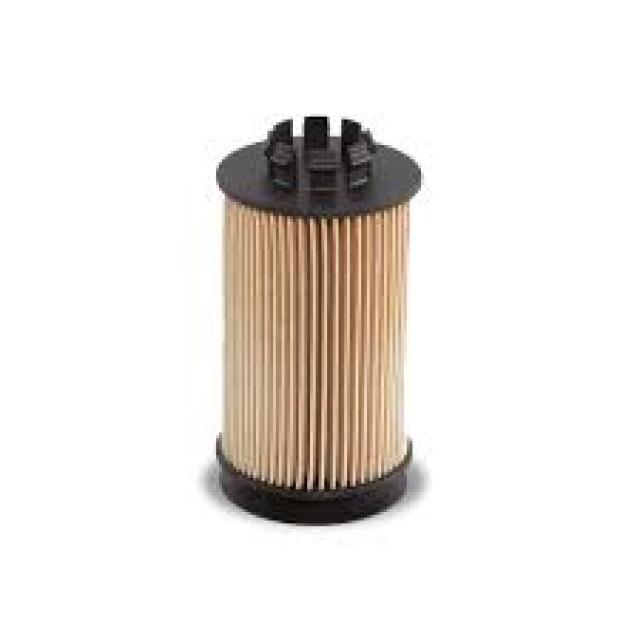oil_filter: (206, 106, 436, 543)
